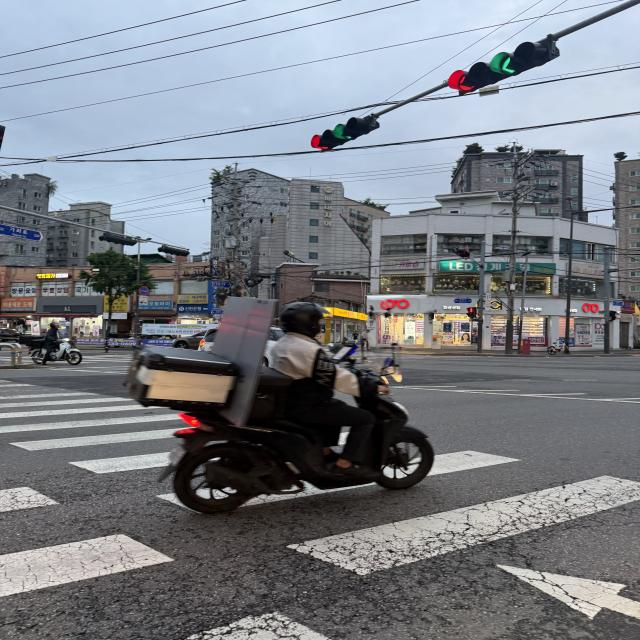motorcycle: (104, 272, 484, 525)
